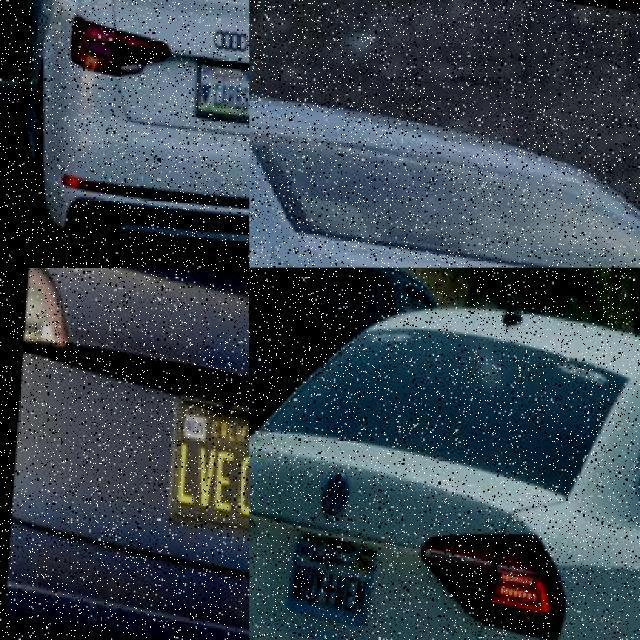LicensePlate: (159, 390, 250, 539), (283, 531, 372, 627), (188, 51, 249, 120)
